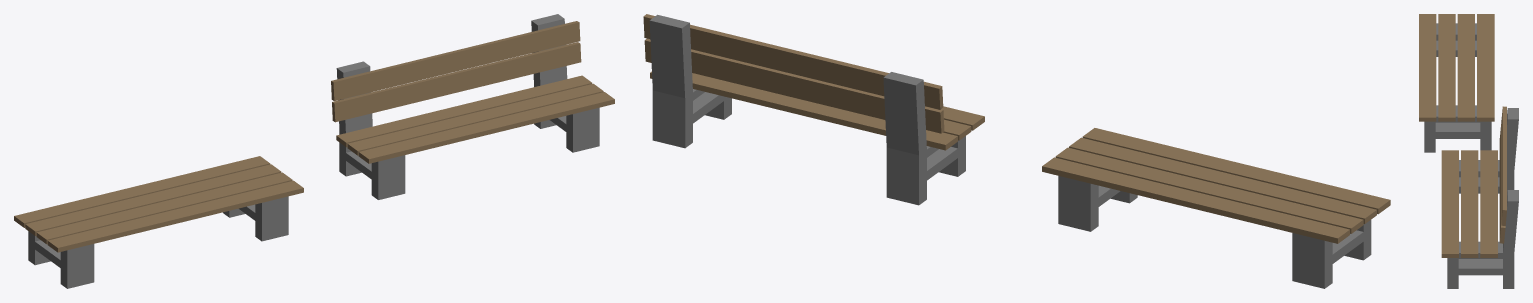
The model's file is LowPolyParkAssets1.fbx.
3 views of the same model, side by side, from view 1: azimuth 30°, elevation 25°; view 2: azimuth 150°, elevation 25°; view 3: azimuth 270°, elevation 25° (orthographic). The views are drawn at different scales.
Parts seen in each view (by area): view 1: Cube.010, Cube.005, Cube.009, Cube.008, Cube.001, Cube, Cube.006, Cube.007, Cube.002, Cube.003, Cube.004; view 2: Cube.009, Cube.005, Cube, Cube.004, Cube.010, Cube.003, Cube.001, Cube.002, Cube.006, Cube.008; view 3: Cube.009, Cube.001, Cube.002, Cube.003, Cube.004, Cube.006, Cube.007, Cube.008, Cube, Cube.005, Cube.010.
Boxes of the visible parts, left/top/right/bottom form: Cube.010: left=332, top=42, right=581, bottom=122; Cube.005: left=331, top=21, right=580, bottom=100; Cube.009: left=336, top=14, right=599, bottom=199; Cube.008: left=358, top=92, right=614, bottom=163; Cube.001: left=47, top=180, right=303, bottom=252; Cube: left=28, top=196, right=288, bottom=288; Cube.006: left=336, top=75, right=592, bottom=147; Cube.007: left=347, top=83, right=603, bottom=155; Cube.002: left=36, top=172, right=292, bottom=244; Cube.003: left=25, top=164, right=281, bottom=235; Cube.004: left=14, top=156, right=270, bottom=227; Cube.009: left=649, top=14, right=965, bottom=205; Cube.005: left=643, top=14, right=943, bottom=109; Cube: left=1058, top=176, right=1371, bottom=288; Cube.004: left=1042, top=157, right=1349, bottom=243; Cube.010: left=644, top=38, right=944, bottom=133; Cube.003: left=1055, top=147, right=1363, bottom=233; Cube.001: left=1082, top=128, right=1390, bottom=214; Cube.002: left=1069, top=137, right=1376, bottom=223; Cube.006: left=650, top=71, right=957, bottom=150; Cube.008: left=941, top=106, right=984, bottom=130; Cube.009: left=1447, top=108, right=1518, bottom=288; Cube.001: left=1419, top=14, right=1436, bottom=121; Cube.002: left=1438, top=14, right=1455, bottom=121; Cube.003: left=1457, top=14, right=1474, bottom=121; Cube.004: left=1477, top=14, right=1494, bottom=121; Cube.006: left=1480, top=150, right=1497, bottom=257; Cube.007: left=1461, top=150, right=1478, bottom=257; Cube.008: left=1441, top=150, right=1458, bottom=257; Cube: left=1424, top=23, right=1491, bottom=152; Cube.005: left=1501, top=106, right=1506, bottom=225; Cube.010: left=1499, top=124, right=1505, bottom=243.
Bounding box in the file's own units: 879 × 150 × 155.
